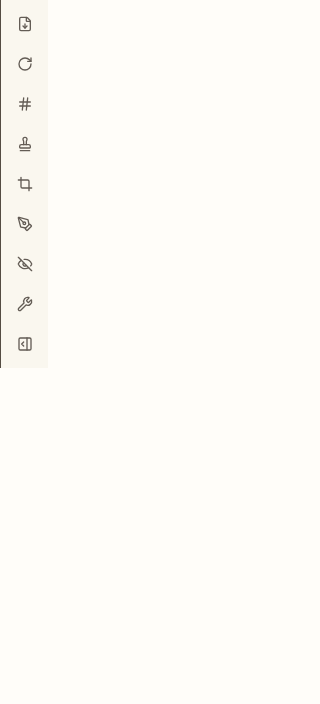
Test: Suite 12 — PDF Editor: Tool Panels › TP-01g — a document that cannot shrink says so instead of promising a reduction
The width and height of the screenshot is (320, 704).
Click the button titled "Compress PDF" at x=24, y=24, box 4,4 -> 44,44
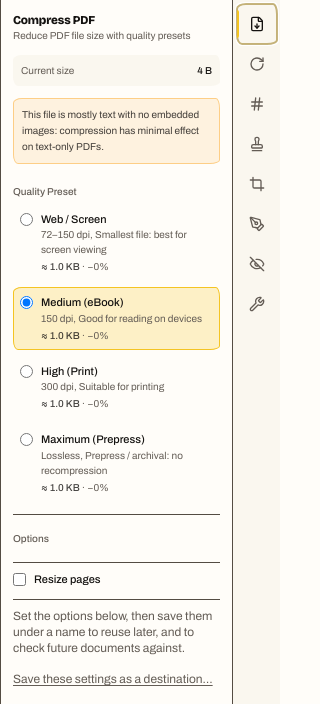
Result: the text "mostly text with no embedded images" is shown at 22,108 -> 199,152
